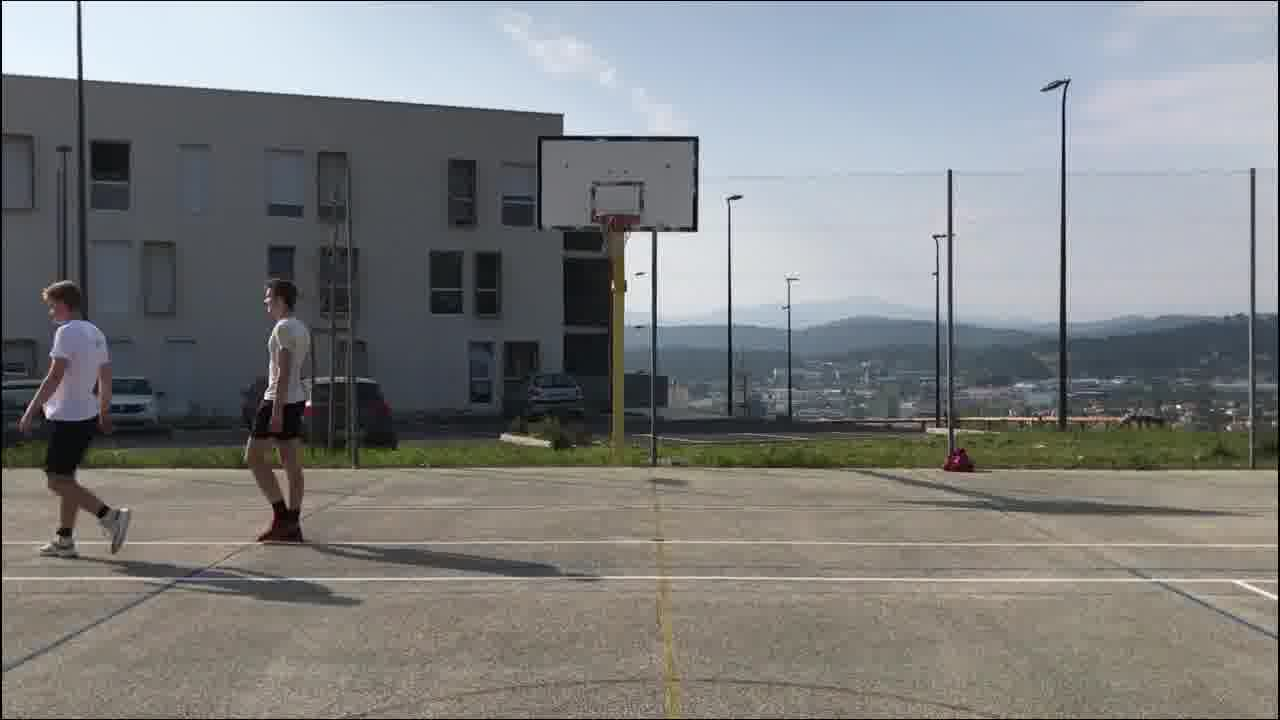jugador: (233, 262, 317, 554)
